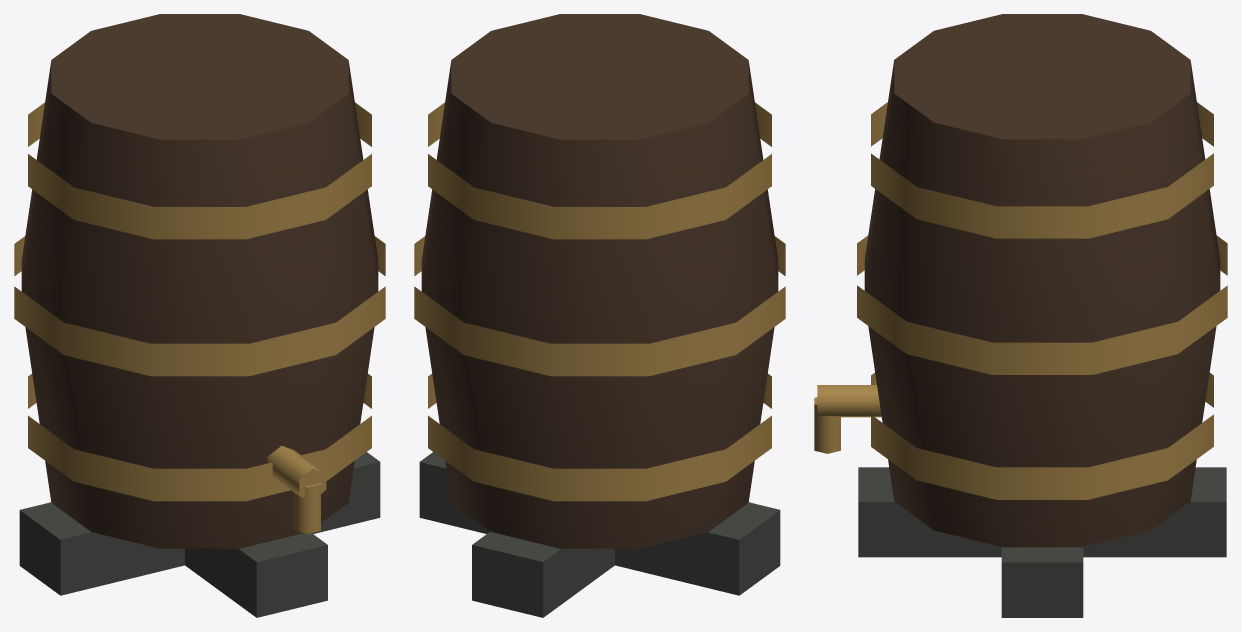
Rendered from barrel.glb.
The picture shows the model from 3 angles, left to right: view 1: azimuth 30°, elevation 25°; view 2: azimuth 150°, elevation 25°; view 3: azimuth 270°, elevation 25°; orthographic projection.
Parts seen in each view (by area): view 1: barrel; view 2: barrel; view 3: barrel.
Part boxes in pixels (x1,y1,x2,y2): barrel: (14, 14, 385, 617); barrel: (414, 14, 785, 617); barrel: (814, 14, 1227, 617).
Size of the model in its own units: 0.7244 by 1 by 0.8082.
